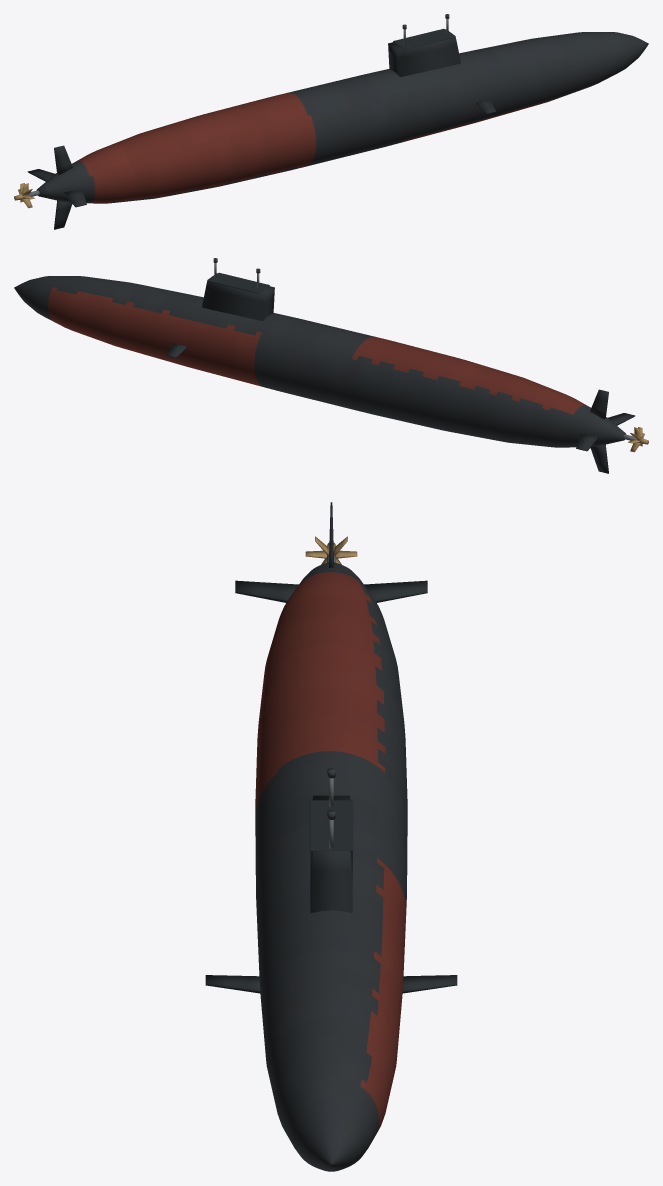
Rendered from CN_SSN_Type091.glb.
3 views of the same model, one above another, from view 1: azimuth 30°, elevation 25°; view 2: azimuth 150°, elevation 25°; view 3: azimuth 270°, elevation 25° (orthographic). The views are drawn at different scales.
Visible parts, largest first — view 1: CN_SSN_Type091_LOD0; view 2: CN_SSN_Type091_LOD0; view 3: CN_SSN_Type091_LOD0.
Part boxes in pixels (left/top/right/bottom): CN_SSN_Type091_LOD0: left=14, top=14, right=648, bottom=229; CN_SSN_Type091_LOD0: left=14, top=258, right=648, bottom=473; CN_SSN_Type091_LOD0: left=205, top=502, right=457, bottom=1171.
Size of the model in its own units: 102 by 18.23 by 17.47.
6 materials, 1 textured.
